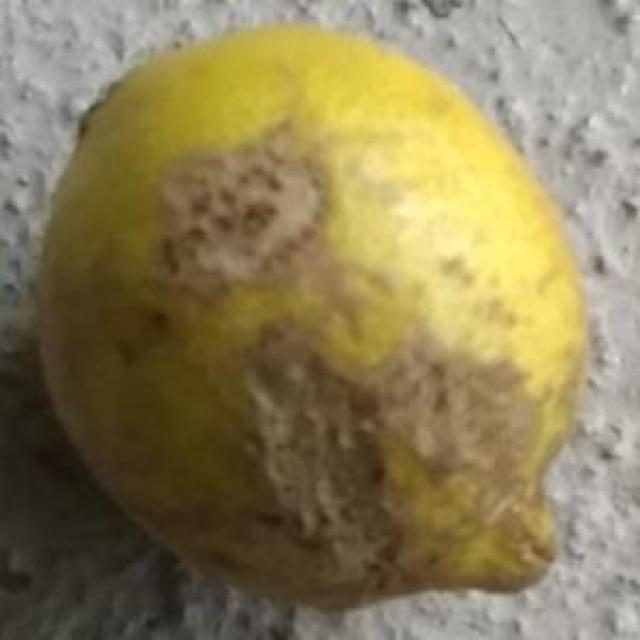lemon: (45, 23, 591, 606)
